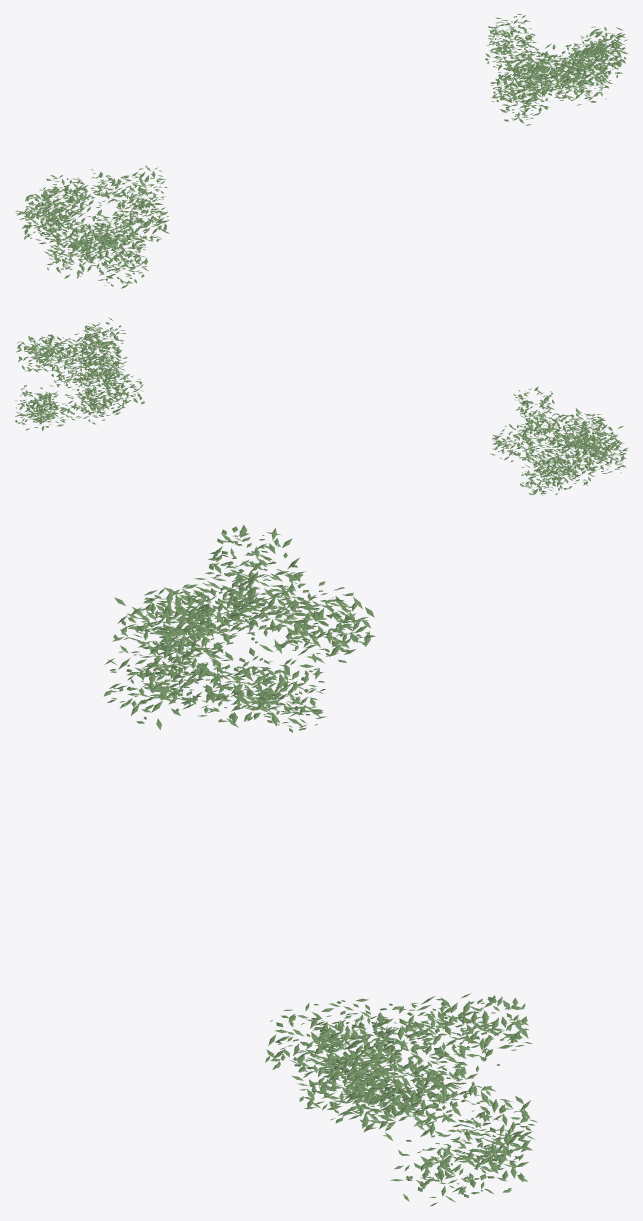
Rendered from xiyuan-vegetation-21-near.glb.
3 views of the same model, one above another, from view 1: azimuth 30°, elevation 25°; view 2: azimuth 150°, elevation 25°; view 3: azimuth 270°, elevation 25° (orthographic). The views are drawn at different scales.
Visible parts, largest first — view 1: vegetation broadleaf leaves.003; view 2: vegetation broadleaf leaves.003; view 3: vegetation broadleaf leaves.003.
Part boxes in pixels (x1,y1,x2,y2): vegetation broadleaf leaves.003: (15,14,628,288); vegetation broadleaf leaves.003: (15,317,628,495); vegetation broadleaf leaves.003: (103,525,537,1206).
Bounding box in the file's own units: 36.52 × 5.37 × 12.41.
